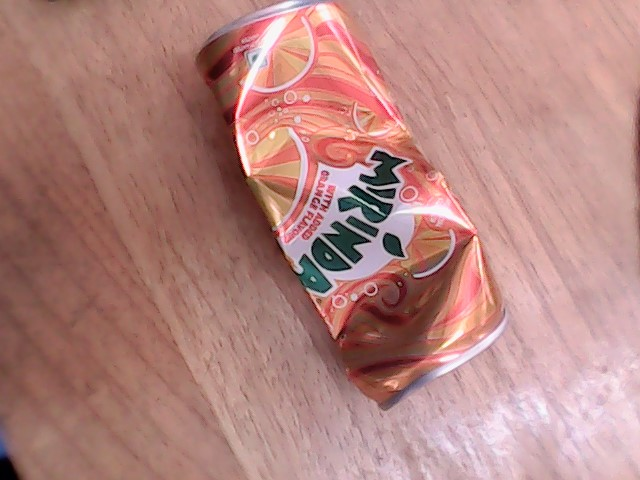Metal: (182, 8, 508, 480)
